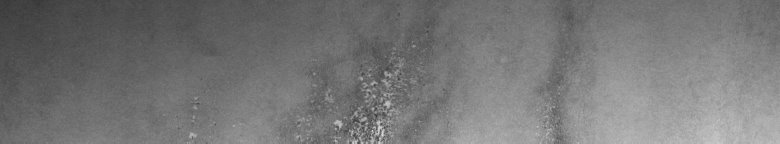hc: (284, 4, 427, 136)
